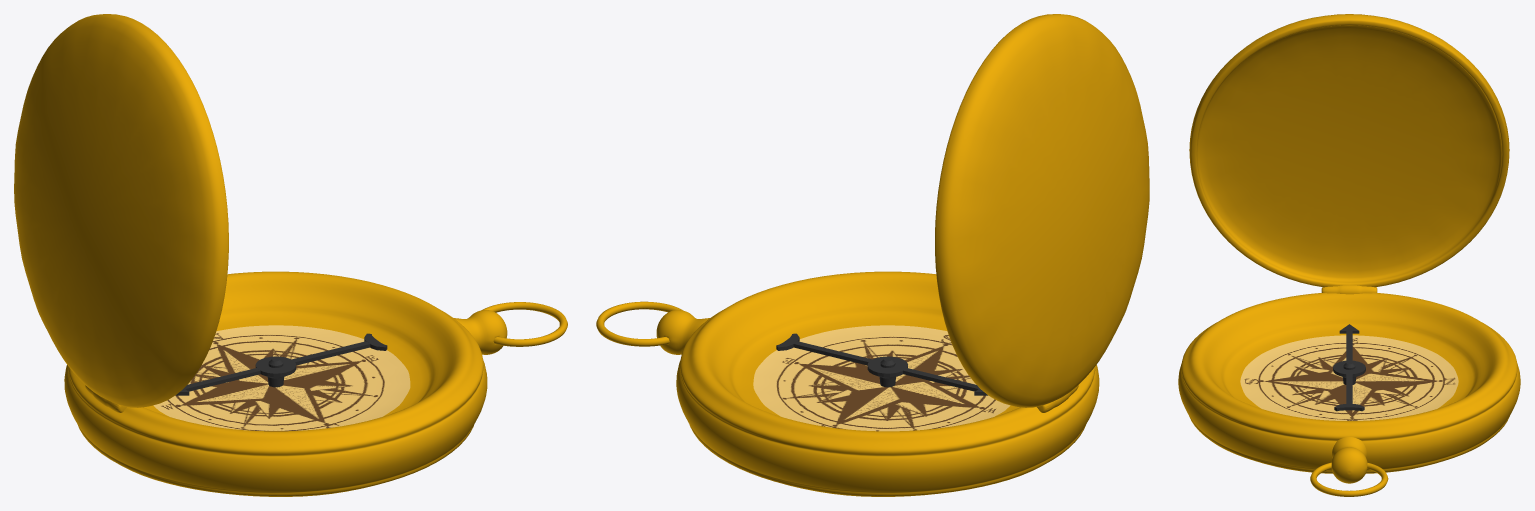
Rendered from compass.fbx.
3 views of the same model, side by side, from view 1: azimuth 30°, elevation 25°; view 2: azimuth 150°, elevation 25°; view 3: azimuth 270°, elevation 25° (orthographic). The views are drawn at different scales.
Parts seen in each view (by area): view 1: revolvedSurface2; view 2: revolvedSurface2; view 3: revolvedSurface2.
Boxes of the visible parts, box(x1,y1,x2,y2) form: revolvedSurface2: box(14, 14, 567, 496); revolvedSurface2: box(596, 14, 1149, 496); revolvedSurface2: box(1178, 14, 1520, 496).
Size of the model in its own units: 2.75 by 2.32 by 2.11.
